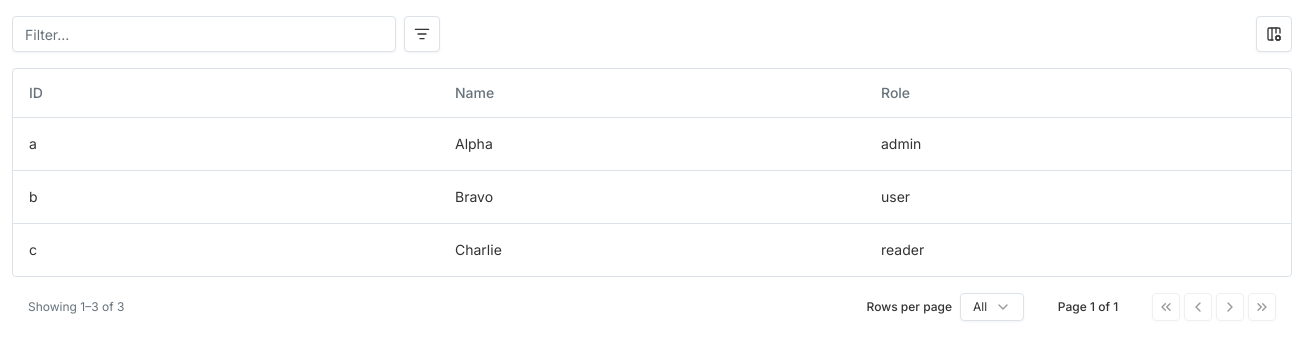
Scenario: DataTable — multi-column search › searches across all candidate columns with OR semantics (meta.searchable opt-in)
Type "reader" into the field with placeholder "Filter..." at [204, 34], box [13,16,395,52]
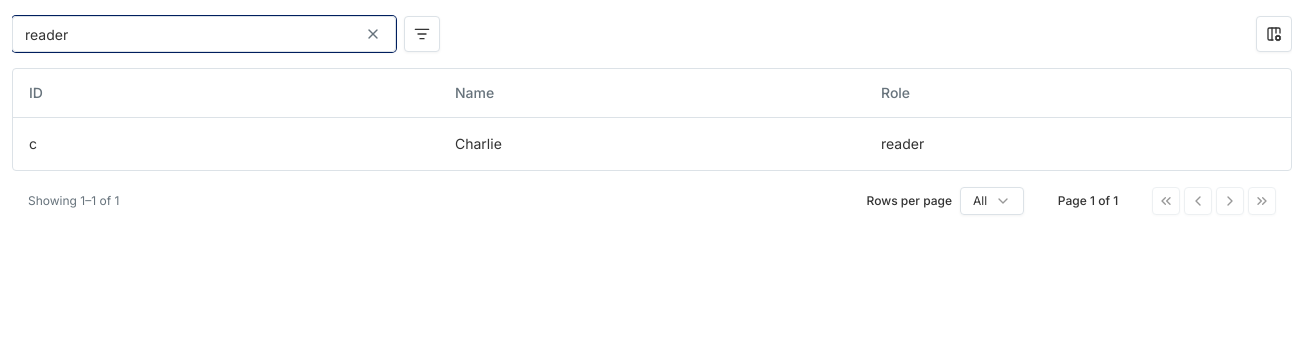
expect the text "Charlie" is shown: met, box [439,117,865,170]
expect the text "Alpha" is gone: met
expect the text "Bravo" is gone: met
